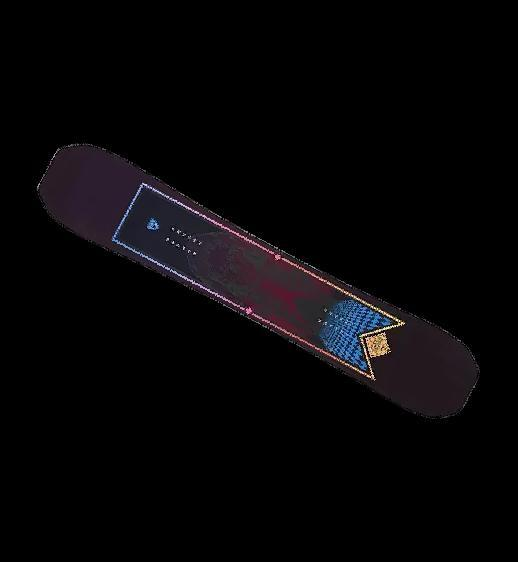Snowboard: (36, 141, 480, 420)
